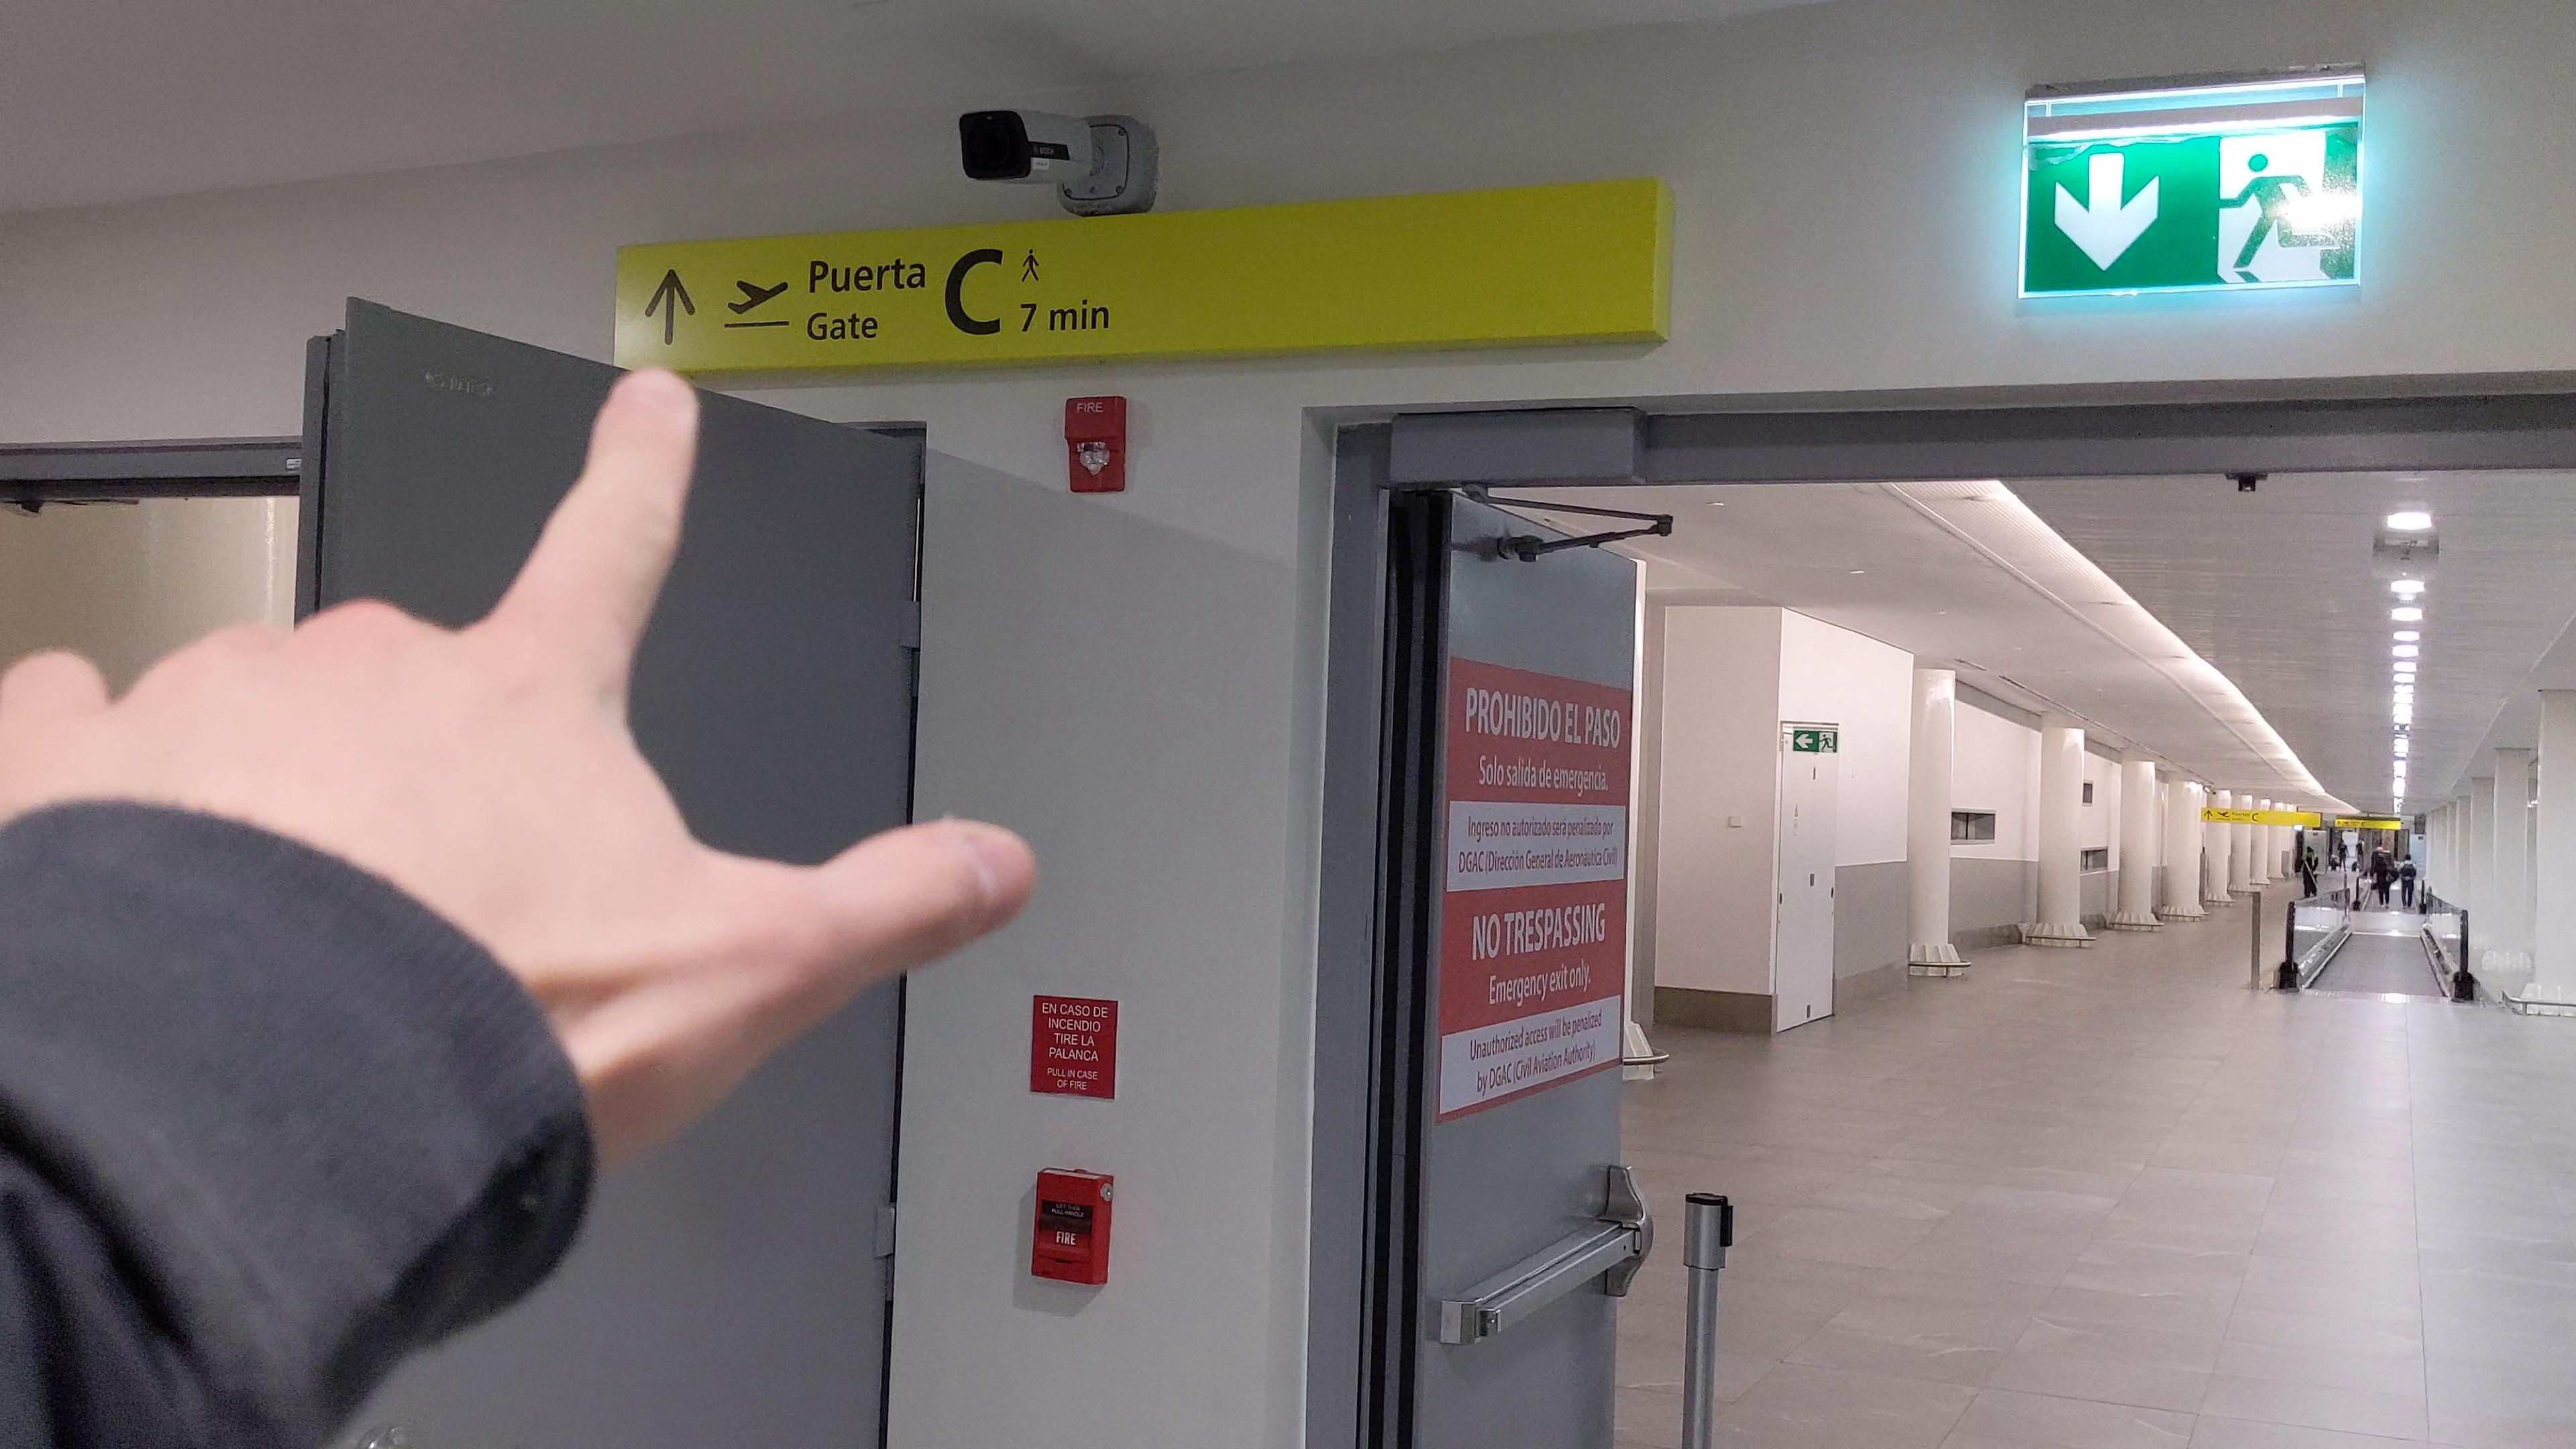airplane symbol: (724, 272, 794, 320), (2217, 810, 2229, 819)
emergency down arrow: (2049, 145, 2166, 280)
emergency exit: (2206, 127, 2348, 287), (1819, 732, 1833, 752)
emergency left arrow: (1796, 732, 1815, 750)
thin up arrow: (639, 264, 702, 357), (2204, 810, 2213, 821)
